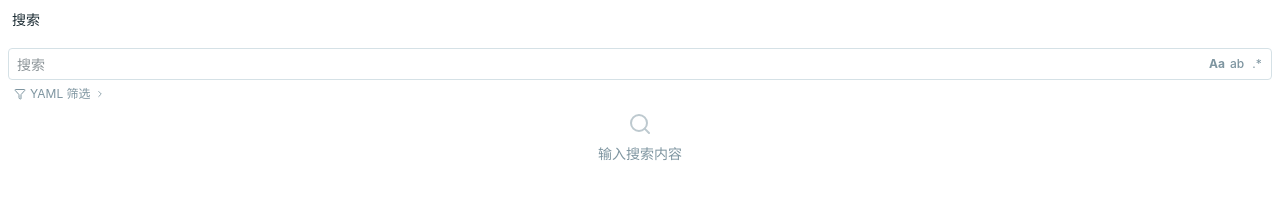
it: SearchView 交互修复（I13①②③） › ③ 连续两次搜索：旧慢响应不覆盖新快响应
Type "aaa" into the field. click: (606, 64)
box: x1=9 y1=49 x2=1203 y2=79
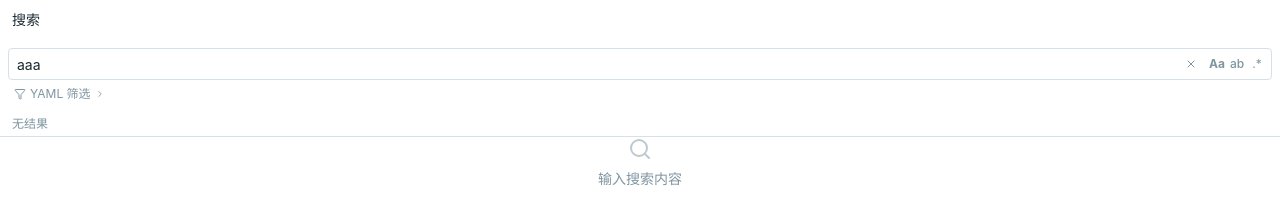
Press Enter in the field, box x1=9 y1=49 x2=1179 y2=79
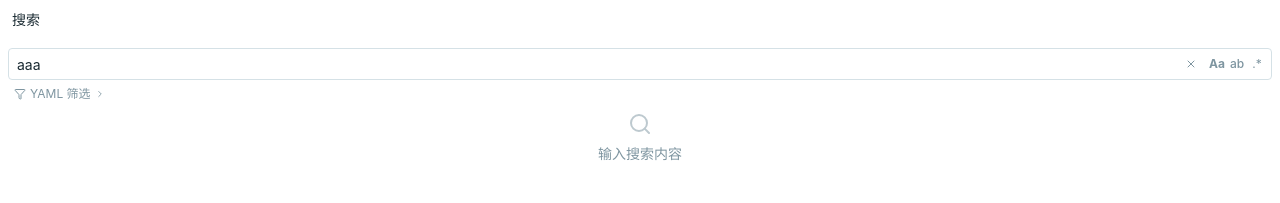
Replace the text in the field with "bbb". click: (594, 64)
box: x1=9 y1=49 x2=1179 y2=79
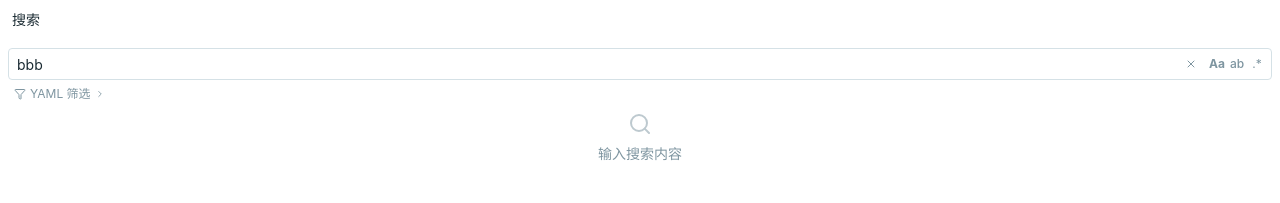
Press Enter in the field, box x1=9 y1=49 x2=1179 y2=79
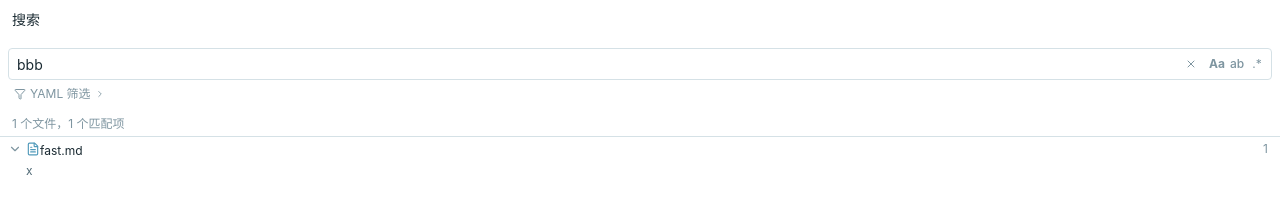
Check: the text "1 个文件，1 个匹配项" is shown, box x1=0 y1=112 x2=1279 y2=137
